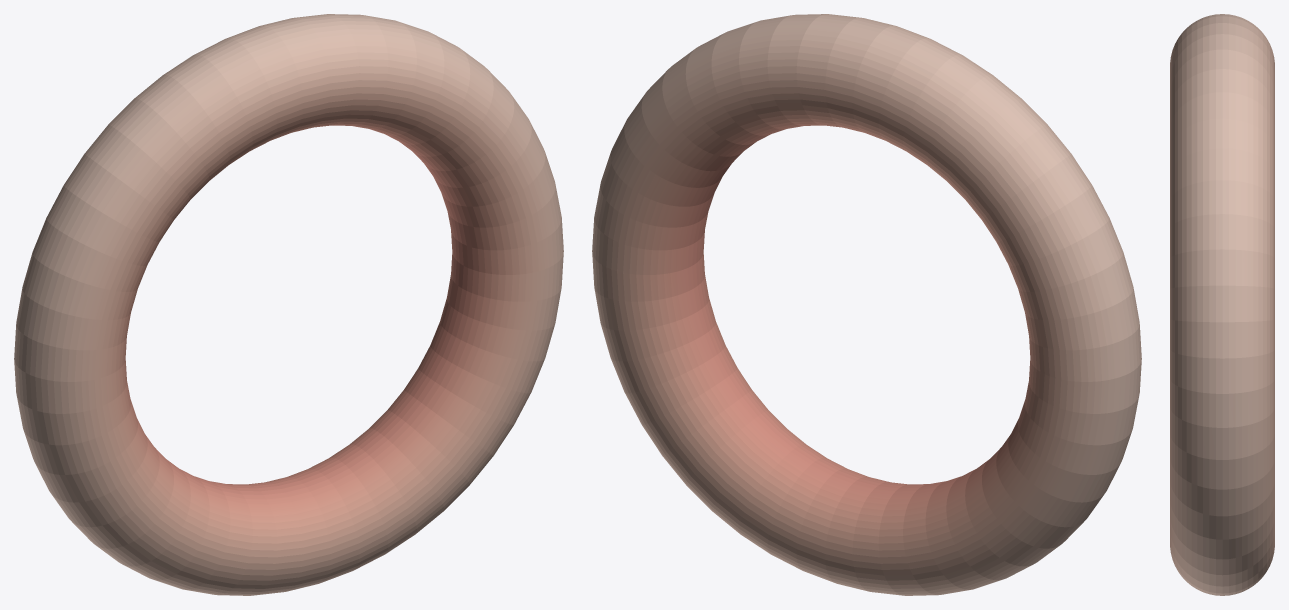
3 views of the same model, side by side, from view 1: azimuth 30°, elevation 25°; view 2: azimuth 150°, elevation 25°; view 3: azimuth 270°, elevation 25° (orthographic). The views are drawn at different scales.
Parts seen in each view (by area): view 1: world; view 2: world; view 3: world.
Part boxes in pixels (x1,y1,x2,y2): world: (14, 14, 563, 595); world: (592, 14, 1141, 595); world: (1170, 14, 1274, 595).
Bounding box in the file's own units: 31.73 × 31.67 × 5.72.
